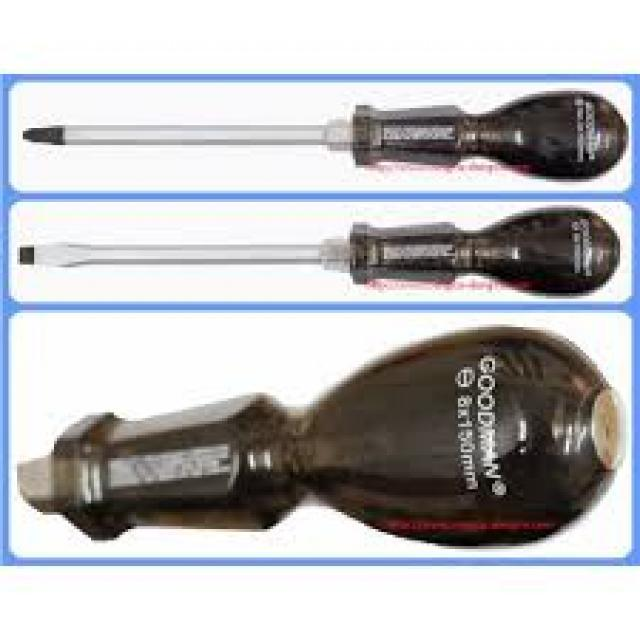screwdriver: (70, 6, 633, 572)
